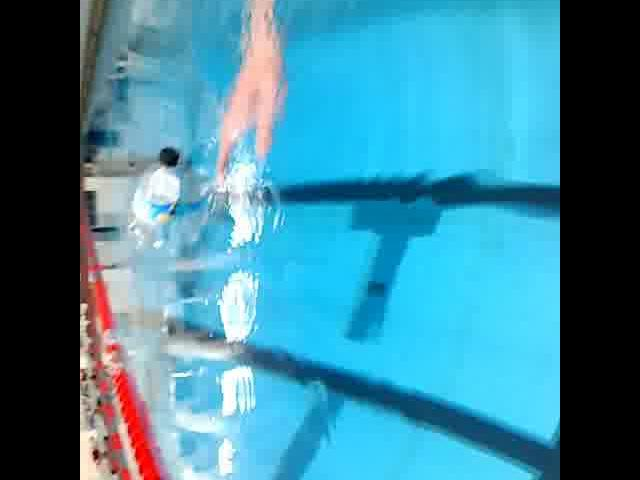Bottle: (118, 140, 188, 260)
